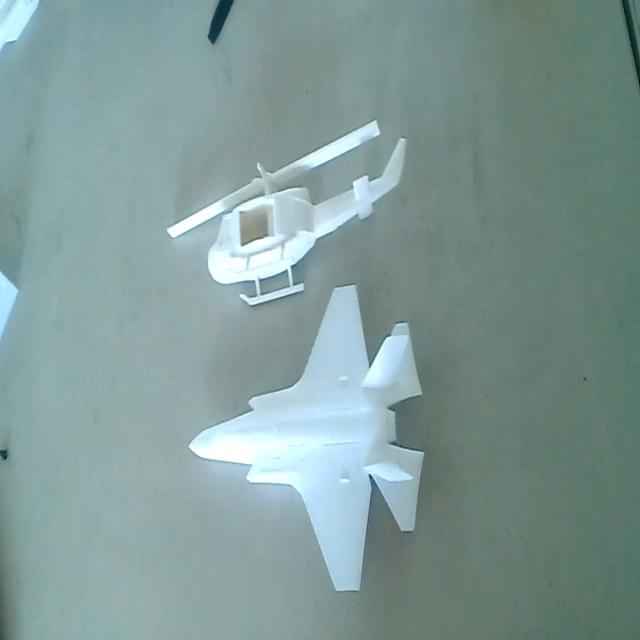Helicopter: (166, 117, 409, 313)
Jet: (192, 287, 428, 596)
